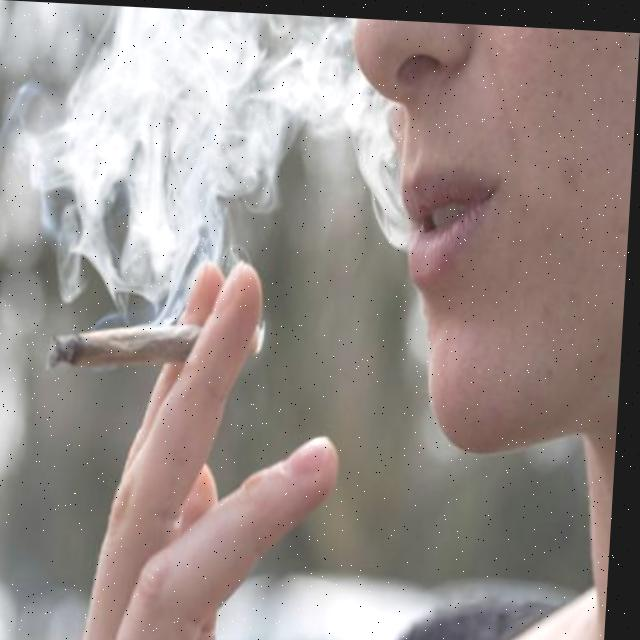cigarette: (49, 312, 212, 380)
